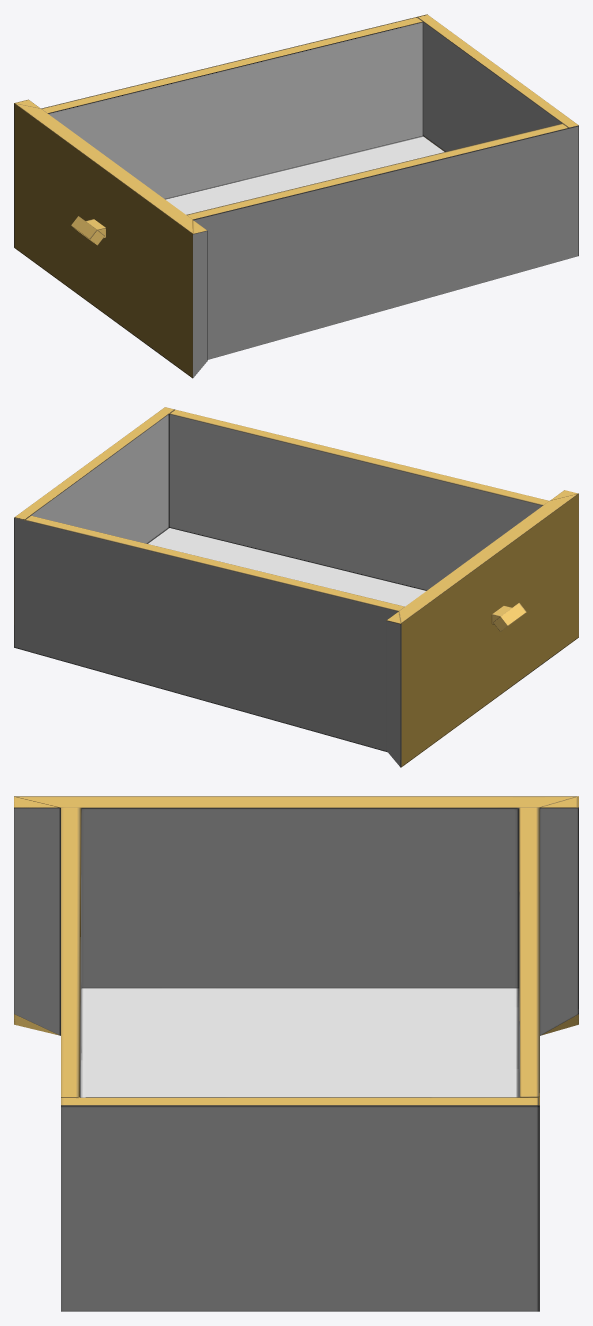
File: Schublade.fbx
The picture shows the model from 3 angles, top to bottom: view 1: azimuth 30°, elevation 25°; view 2: azimuth 150°, elevation 25°; view 3: azimuth 270°, elevation 25°; orthographic projection. The views are drawn at different scales.
Parts seen in each view (by area): view 1: Schublade; view 2: Schublade; view 3: Schublade.
Part boxes in pixels (<box>): Schublade: <box>14,14,578,378</box>; Schublade: <box>14,407,578,767</box>; Schublade: <box>14,796,578,1311</box>.
Bounding box in the file's own units: 156 × 50.46 × 113.
